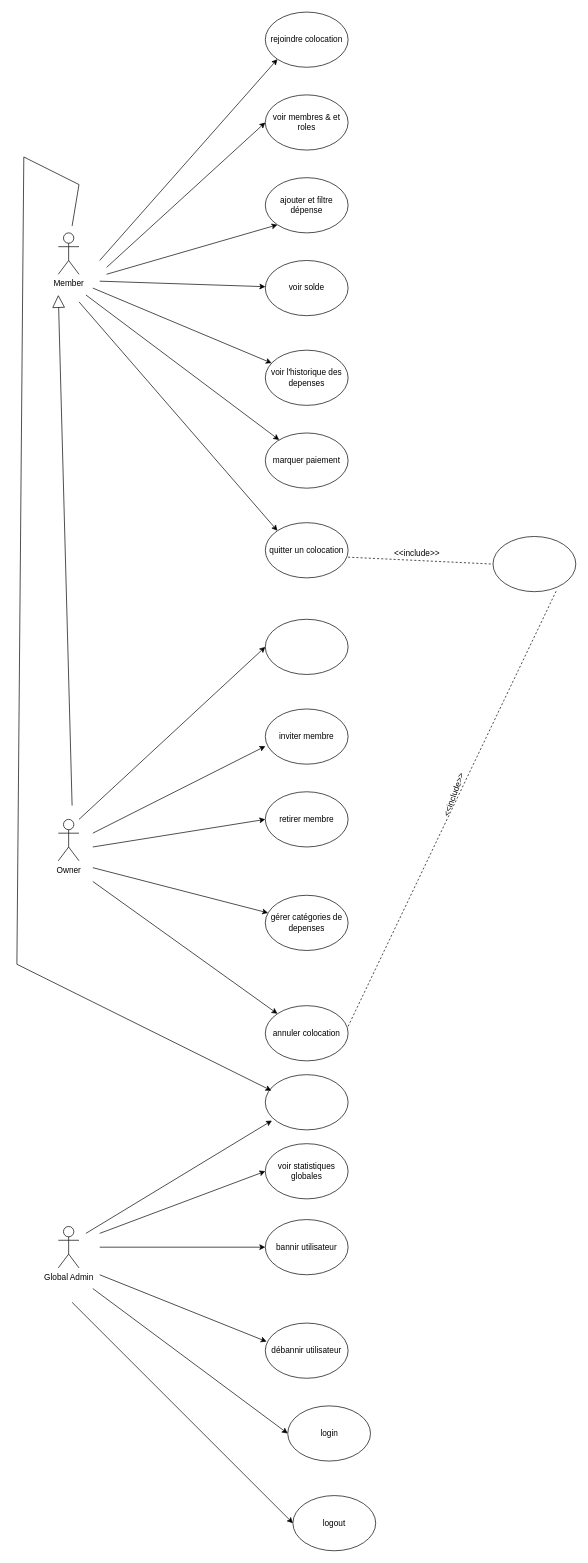
Image size: 588x1563. Some labels were removed from this diagram. The box of each missing label's shape, as (x1, y1, x2, y2) in pixels:
créer colocation: (265, 619, 348, 674)
gerer son profil: (265, 1074, 348, 1130)
mettre a jour la reputation: (492, 536, 576, 592)
